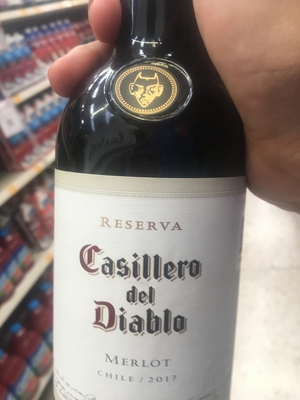casillero del diablo merlot: (51, 25, 244, 400)
